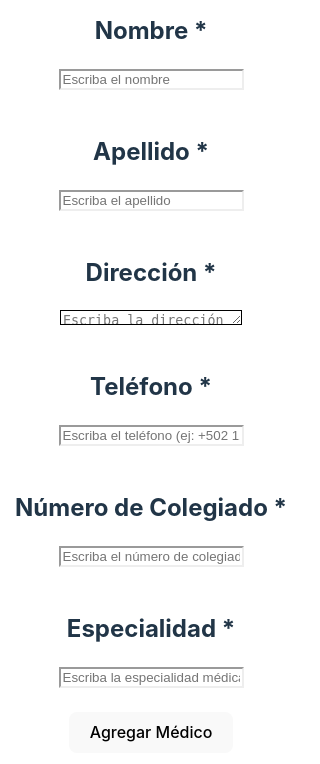
Test: MedicoAdd_mantenimiento › valida número de colegiado inválido y muestra error
Type "12" into the field with placeholder "Escriba el número de colegiado (4-8 dígitos)" at (151, 556), box [58,546,244,567]
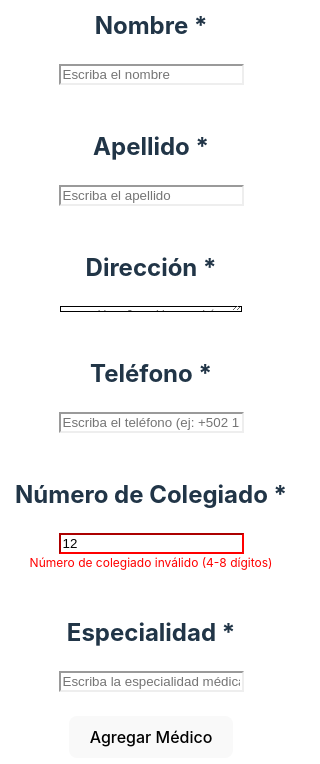
Expected: the text "Número de colegiado inválido (4-8 dígitos)" is shown, [30,554,272,572]
